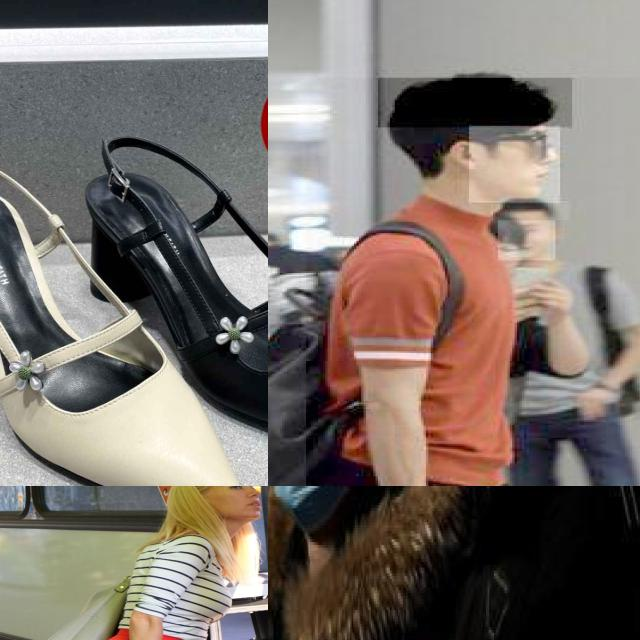No_Ear-Protection: (444, 136, 486, 170)
Sandals: (0, 134, 263, 486), (78, 116, 268, 485)
face_nomask: (469, 125, 560, 202), (498, 220, 555, 260)
hand_noglove: (520, 273, 580, 321), (577, 385, 622, 423)
head_nohelmet: (378, 78, 572, 127), (490, 201, 570, 220)
person: (306, 77, 640, 486), (268, 486, 428, 640), (444, 486, 593, 640), (548, 486, 640, 640)
